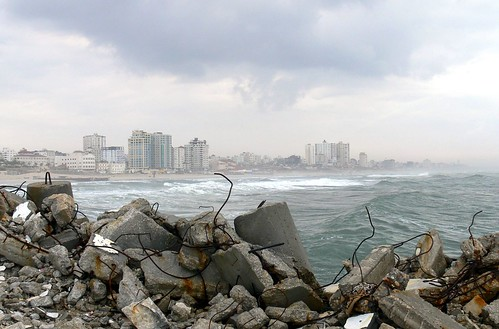building: (126, 130, 154, 170), (149, 134, 177, 172), (183, 139, 211, 171), (54, 151, 94, 171), (99, 147, 124, 176), (313, 140, 337, 168), (81, 130, 107, 152), (338, 142, 353, 168), (305, 141, 316, 164)
debris: (1, 193, 478, 329)
sea: (91, 178, 499, 241)
sky: (5, 1, 499, 135)
